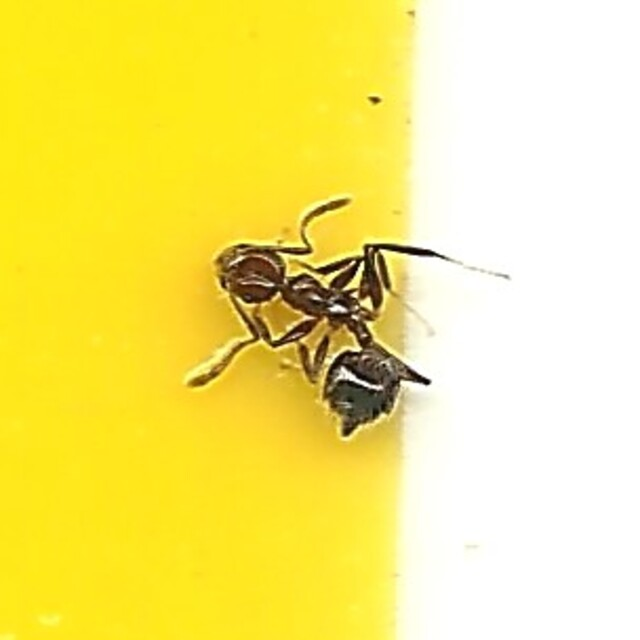Hymenoptera: (211, 193, 429, 447)
